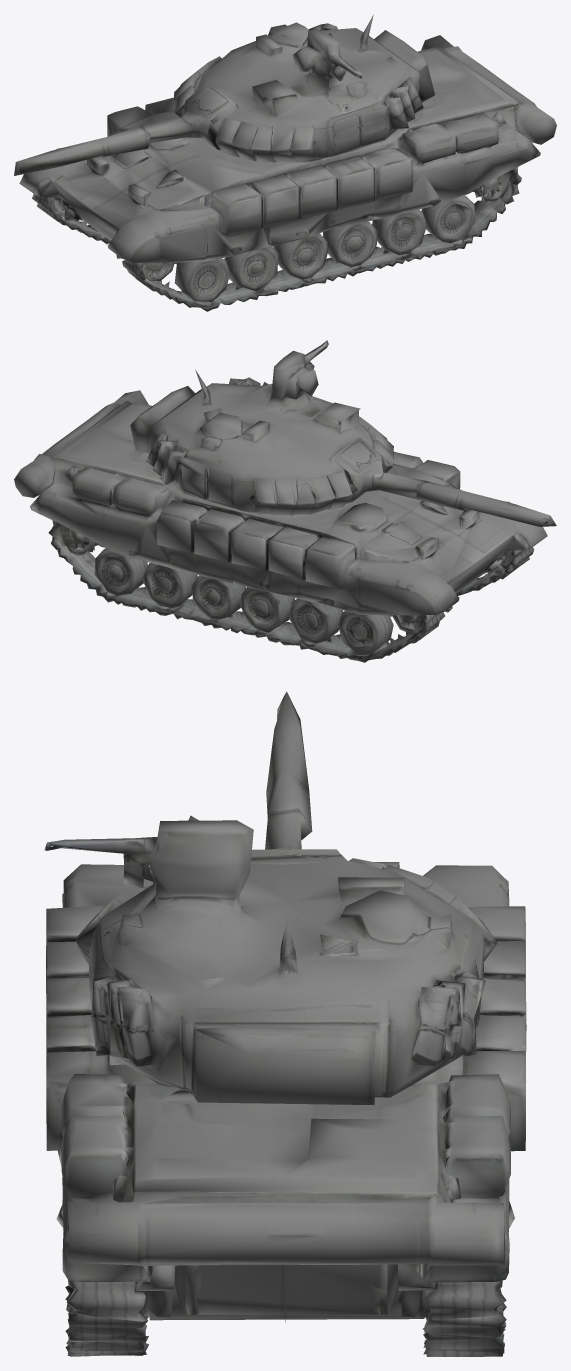
3 views of the same model, one above another, from view 1: azimuth 30°, elevation 25°; view 2: azimuth 150°, elevation 25°; view 3: azimuth 270°, elevation 25° (orthographic). The views are drawn at different scales.
Visible parts, largest first — view 1: tripo_part_0, tripo_part_1, tripo_part_13, tripo_part_10, tripo_part_6, tripo_part_11, tripo_part_8, tripo_part_9, tripo_part_12, tripo_part_4, tripo_part_5; view 2: tripo_part_0, tripo_part_1, tripo_part_14, tripo_part_16, tripo_part_17, tripo_part_3, tripo_part_15, tripo_part_7, tripo_part_2, tripo_part_13; view 3: tripo_part_0, tripo_part_1, tripo_part_13, tripo_part_4, tripo_part_2.
Boxes of the visible parts, left/top/right/bottom form: tripo_part_0: left=19, top=35, right=556, bottom=263; tripo_part_1: left=14, top=14, right=434, bottom=175; tripo_part_13: left=127, top=184, right=519, bottom=311; tripo_part_10: left=174, top=258, right=230, bottom=301; tripo_part_6: left=323, top=221, right=376, bottom=267; tripo_part_11: left=421, top=194, right=475, bottom=243; tripo_part_8: left=372, top=210, right=427, bottom=255; tripo_part_9: left=224, top=245, right=278, bottom=291; tripo_part_12: left=273, top=233, right=327, bottom=279; tripo_part_4: left=471, top=167, right=521, bottom=203; tripo_part_5: left=122, top=260, right=174, bottom=280; tripo_part_0: left=14, top=390, right=547, bottom=662; tripo_part_1: left=130, top=340, right=556, bottom=526; tripo_part_14: left=338, top=611, right=393, bottom=655; tripo_part_16: left=94, top=548, right=147, bottom=595; tripo_part_17: left=289, top=598, right=343, bottom=643; tripo_part_3: left=240, top=587, right=294, bottom=632; tripo_part_15: left=142, top=563, right=197, bottom=608; tripo_part_7: left=191, top=575, right=245, bottom=619; tripo_part_2: left=48, top=520, right=98, bottom=555; tripo_part_13: left=456, top=557, right=529, bottom=595; tripo_part_0: left=46, top=862, right=526, bottom=1356; tripo_part_1: left=44, top=691, right=497, bottom=1105; tripo_part_13: left=65, top=1280, right=148, bottom=1356; tripo_part_4: left=66, top=1280, right=147, bottom=1321; tripo_part_2: left=424, top=1280, right=506, bottom=1319.
Size of the model in its own units: 1 by 0.4182 by 0.427.
Materials: 19 (19 with a texture image).
